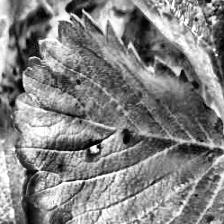Leaf Spot: (9, 8, 224, 224), (112, 0, 224, 138), (0, 92, 31, 224), (23, 199, 66, 224)
